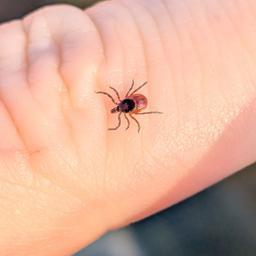Ixodes scapularis: (95, 81, 164, 133)
